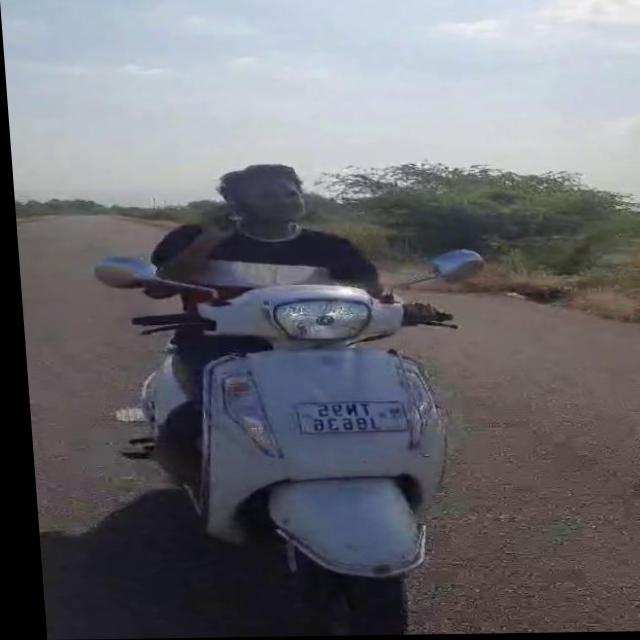USING_MOBILE: (156, 195, 236, 273)
